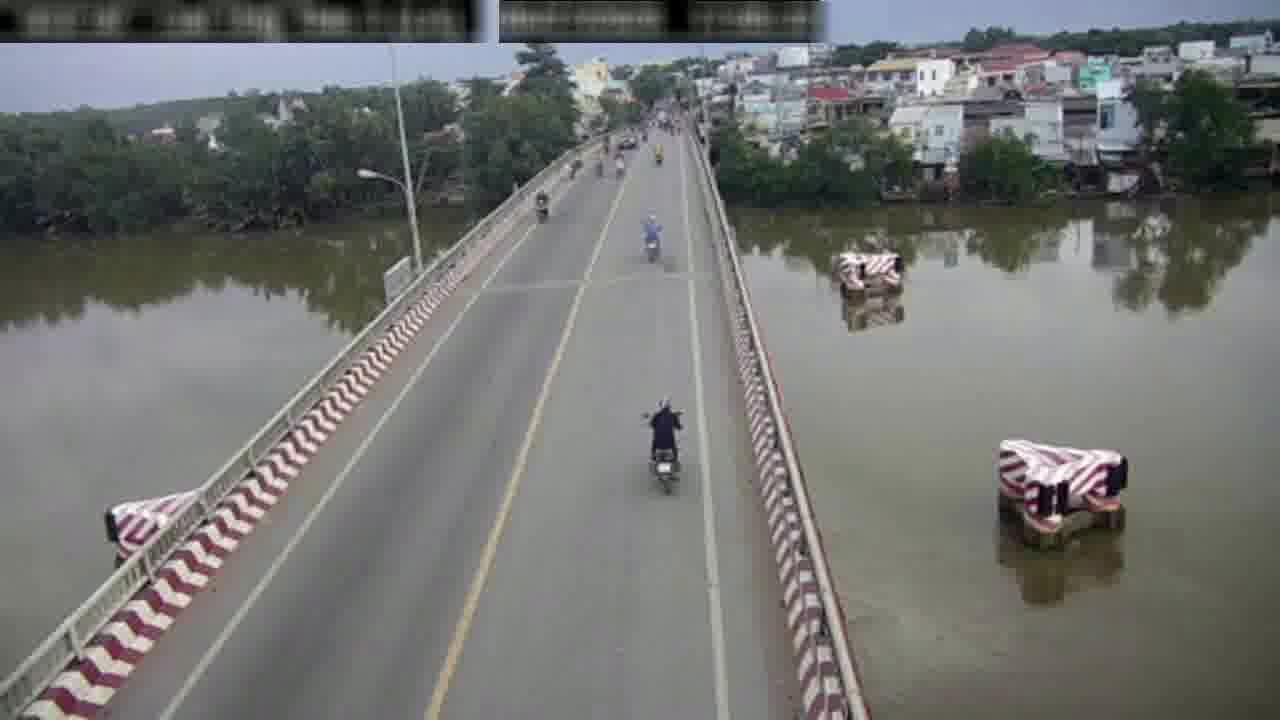motorbike: (644, 393, 686, 495), (641, 208, 662, 266), (533, 187, 550, 224), (649, 138, 665, 167), (614, 148, 627, 180)
